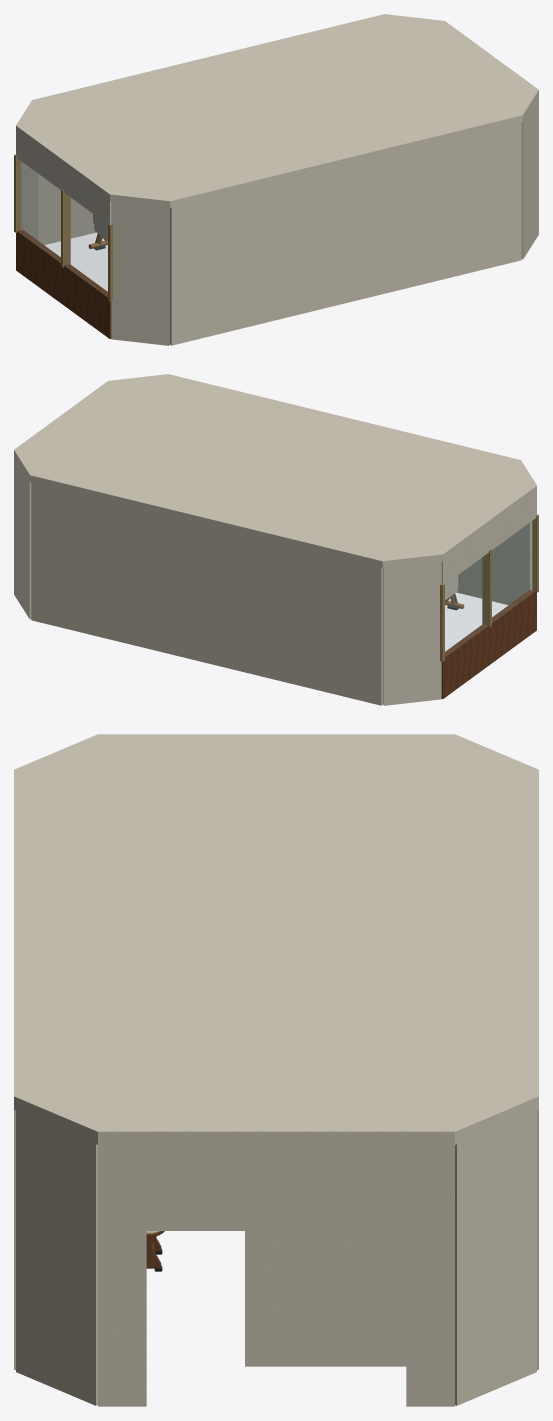
Rendered from D04_PORT_FORWARD_HOME_982_r001.glb.
3 renders of one model, top to bottom at view 1: azimuth 30°, elevation 25°; view 2: azimuth 150°, elevation 25°; view 3: azimuth 270°, elevation 25°, orthographic. The views are drawn at different scales.
Parts seen in each view (by area): view 1: D04H982_Roof, D04H982_Shell_3, D04H982_Shell_2, D04H982_GardenGlass, D04H982_GardenDado, D04H982_Shell_4, D04H982_GardenHead, D04H982_Shell_7, D04H982_Shell_0, D04H982_WindowMullion_1, D04H982_WindowMullion_0; view 2: D04H982_Roof, D04H982_Shell_7, D04H982_Shell_0, D04H982_GardenGlass, D04H982_GardenDado, D04H982_Shell_6, D04H982_GardenHead, D04H982_Shell_3, D04H982_Shell_2, D04H982_WindowMullion_1, D04H982_WindowMullion_2; view 3: D04H982_Roof, D04H982_EntryHeader, D04H982_Shell_4, D04H982_Shell_6, D04H982_BathDogleg, D04H982_EntryWall_0, D04H982_EntryWall_1, D04H982_BathScreen.
Boxes of the visible parts, x1,y1,x2,y2 form: D04H982_Roof: (16, 14, 538, 208); D04H982_Shell_3: (169, 122, 521, 345); D04H982_Shell_2: (111, 201, 169, 345); D04H982_GardenGlass: (19, 163, 107, 294); D04H982_GardenDado: (16, 230, 111, 338); D04H982_Shell_4: (521, 98, 538, 259); D04H982_GardenHead: (16, 133, 111, 224); D04H982_Shell_7: (38, 173, 96, 245); D04H982_Shell_0: (20, 161, 37, 240); D04H982_WindowMullion_1: (61, 189, 70, 267); D04H982_WindowMullion_0: (14, 154, 20, 232); D04H982_Roof: (14, 374, 536, 568); D04H982_Shell_7: (31, 482, 383, 705); D04H982_Shell_0: (383, 561, 441, 705); D04H982_GardenGlass: (445, 523, 534, 655); D04H982_GardenDado: (441, 590, 536, 698); D04H982_Shell_6: (14, 458, 31, 619); D04H982_GardenHead: (441, 493, 536, 584); D04H982_Shell_3: (456, 533, 514, 605); D04H982_Shell_2: (515, 521, 532, 600); D04H982_WindowMullion_1: (482, 549, 491, 627); D04H982_WindowMullion_2: (532, 514, 538, 592); D04H982_Roof: (14, 734, 538, 1144); D04H982_EntryHeader: (146, 1145, 406, 1230); D04H982_Shell_4: (16, 1110, 97, 1405); D04H982_Shell_6: (455, 1110, 536, 1405); D04H982_BathDogleg: (245, 1231, 406, 1366); D04H982_EntryWall_0: (406, 1145, 454, 1406); D04H982_EntryWall_1: (98, 1145, 146, 1406); D04H982_BathScreen: (245, 1231, 258, 1366).
Size of the model in its own units: 12.92 by 4.16 by 7.2.
44 materials, 20 textured.
